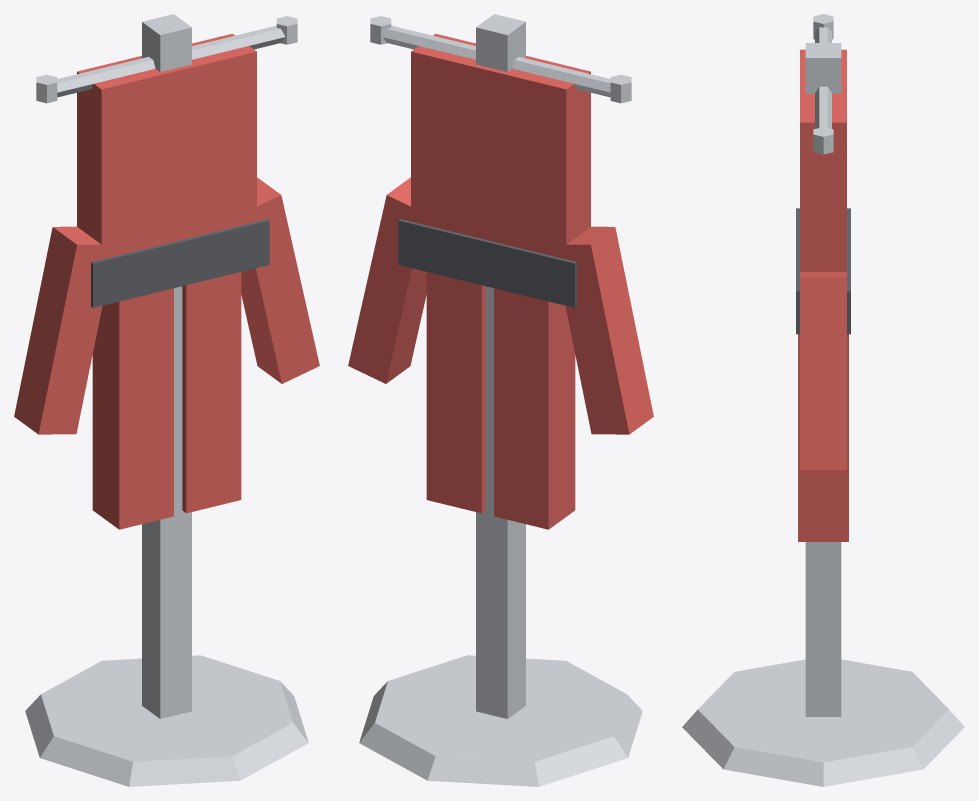
The model's file is go-kart-track-and-pit-lane-race-suit-on-hanger-48a7683a__34360.glb.
The picture shows the model from 3 angles, left to right: view 1: azimuth 30°, elevation 25°; view 2: azimuth 150°, elevation 25°; view 3: azimuth 270°, elevation 25°; orthographic projection. The views are drawn at different scales.
Parts seen in each view (by area): view 1: race-suit-on-hanger-red, race-suit-on-hanger-steel, race-suit-on-hanger-charcoal; view 2: race-suit-on-hanger-red, race-suit-on-hanger-steel, race-suit-on-hanger-charcoal; view 3: race-suit-on-hanger-steel, race-suit-on-hanger-red, race-suit-on-hanger-charcoal.
Boxes of the visible parts, x1=… form: race-suit-on-hanger-red: x1=14, y1=33, x2=319, y2=529; race-suit-on-hanger-steel: x1=25, y1=14, x2=308, y2=786; race-suit-on-hanger-charcoal: x1=91, y1=219, x2=269, y2=307; race-suit-on-hanger-red: x1=348, y1=33, x2=653, y2=529; race-suit-on-hanger-steel: x1=359, y1=14, x2=642, y2=786; race-suit-on-hanger-charcoal: x1=398, y1=219, x2=576, y2=307; race-suit-on-hanger-steel: x1=682, y1=14, x2=964, y2=786; race-suit-on-hanger-red: x1=798, y1=49, x2=848, y2=541; race-suit-on-hanger-charcoal: x1=796, y1=208, x2=850, y2=334.
Bounding box in the file's own units: 0.7965 × 1.9 × 0.72.
